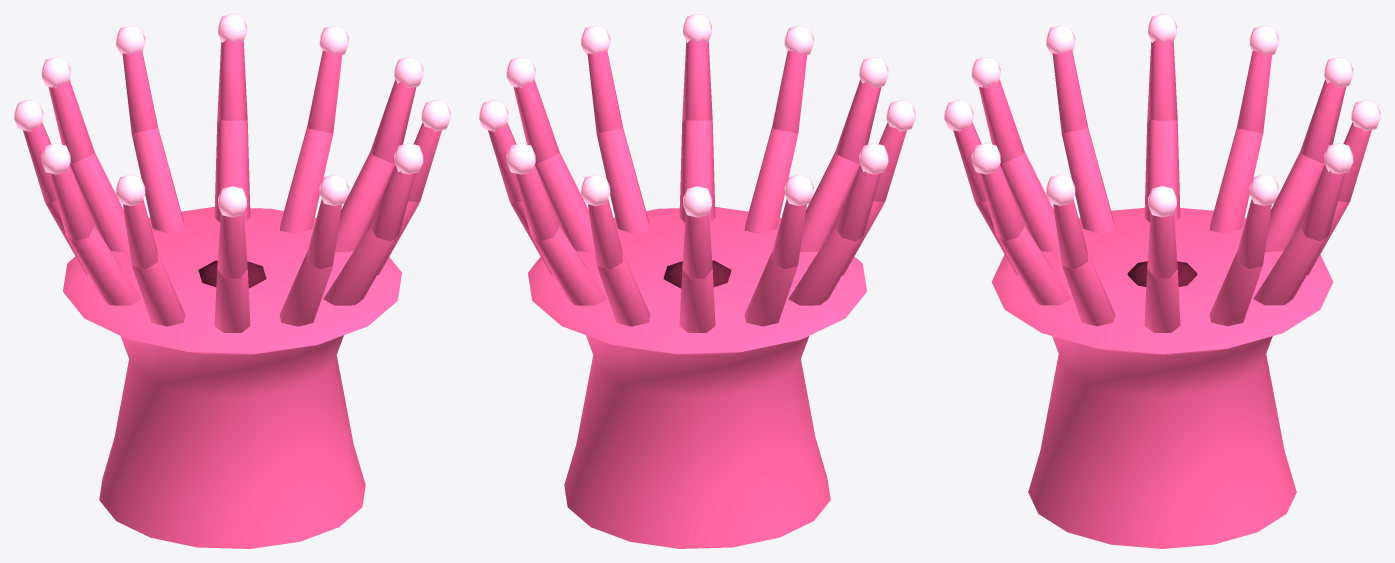
File: anemone.glb
3 views of the same model, side by side, from view 1: azimuth 30°, elevation 25°; view 2: azimuth 150°, elevation 25°; view 3: azimuth 270°, elevation 25° (orthographic).
Visible parts, largest first — view 1: Body, ArmLMesh, ArmRMesh; view 2: Body, ArmLMesh, ArmRMesh; view 3: Body, ArmLMesh, ArmRMesh.
Boxes of the visible parts, bbox=[...] form: Body: bbox=[63, 207, 401, 548]; ArmLMesh: bbox=[41, 14, 423, 332]; ArmRMesh: bbox=[14, 25, 450, 326]; Body: bbox=[528, 207, 866, 548]; ArmLMesh: bbox=[506, 14, 888, 332]; ArmRMesh: bbox=[479, 25, 915, 326]; Body: bbox=[991, 208, 1333, 548]; ArmLMesh: bbox=[971, 14, 1353, 332]; ArmRMesh: bbox=[944, 25, 1380, 326].
Bounding box in the file's own units: 1.44 × 1.42 × 1.43.
